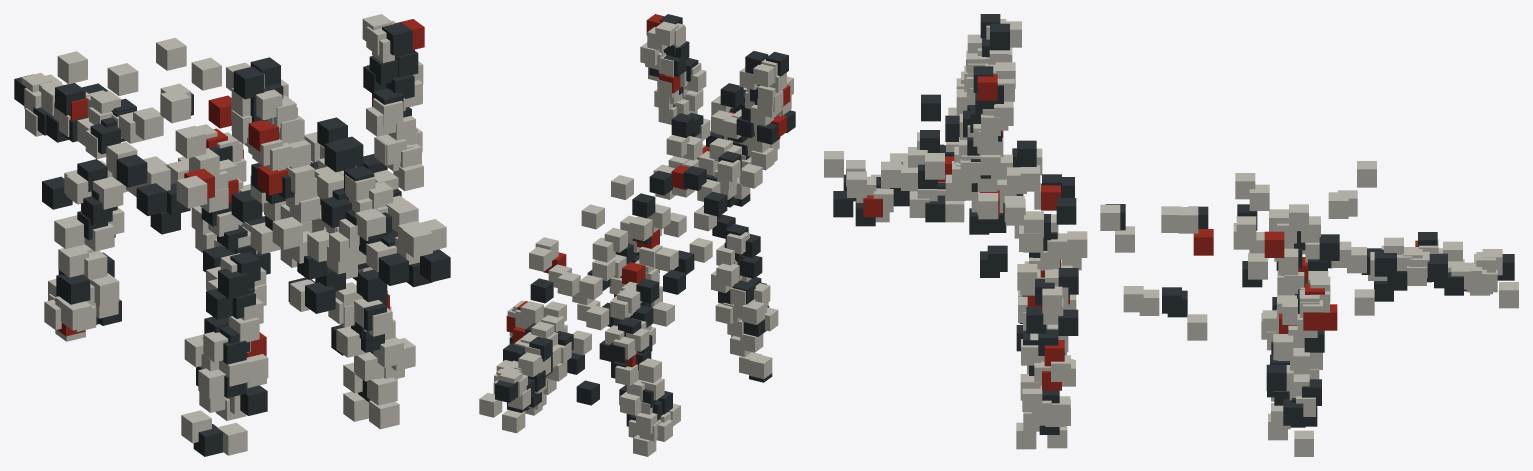
3 renders of one model, left to right at view 1: azimuth 30°, elevation 25°; view 2: azimuth 150°, elevation 25°; view 3: azimuth 270°, elevation 25°, orthographic. The views are drawn at different scales.
Visible parts, largest first — view 1: nanite-hound-painted; view 2: nanite-hound-painted; view 3: nanite-hound-painted.
Boxes of the visible parts, x1=… form: nanite-hound-painted: x1=14, y1=14, x2=450, y2=456; nanite-hound-painted: x1=479, y1=14, x2=795, y2=456; nanite-hound-painted: x1=824, y1=14, x2=1518, y2=456.
Bounding box in the file's own units: 2.66 × 4.99 × 8.42.
